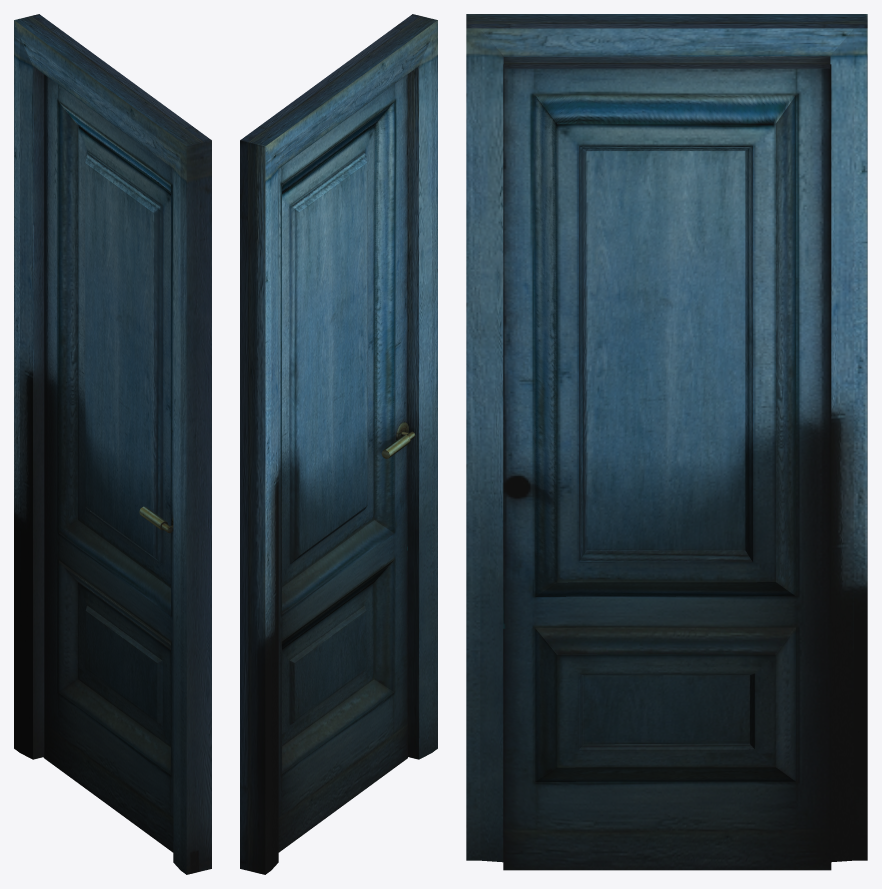
File: Porta.fbx
3 views of the same model, side by side, from view 1: azimuth 30°, elevation 25°; view 2: azimuth 150°, elevation 25°; view 3: azimuth 270°, elevation 25° (orthographic). The views are drawn at different scales.
Parts seen in each view (by area): view 1: Porta, Doorknob; view 2: Porta, Doorknob; view 3: Porta.
Part boxes in pixels (<box>): Porta: <box>14,14,211,874</box>; Doorknob: <box>139,506,173,533</box>; Porta: <box>240,14,437,874</box>; Doorknob: <box>381,422,415,458</box>; Porta: <box>466,14,867,870</box>.
Bounding box in the file's own units: 8.52 × 236 × 101.
Materials: 2 (2 with a texture image).
